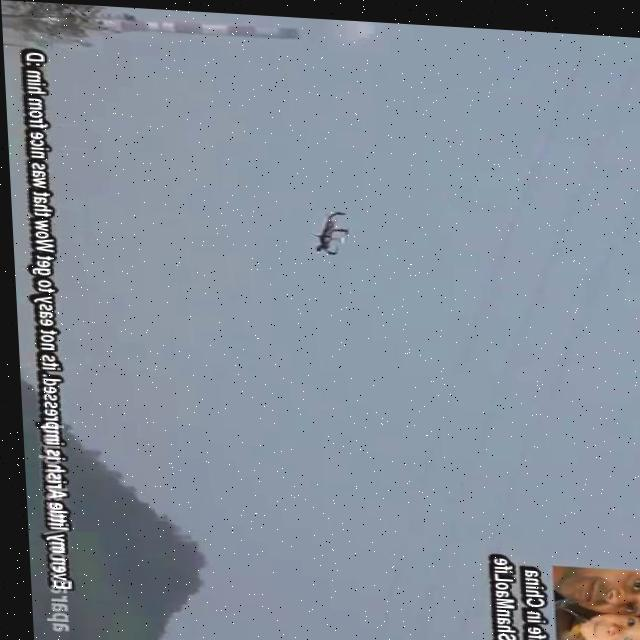drone: (307, 203, 354, 255)
